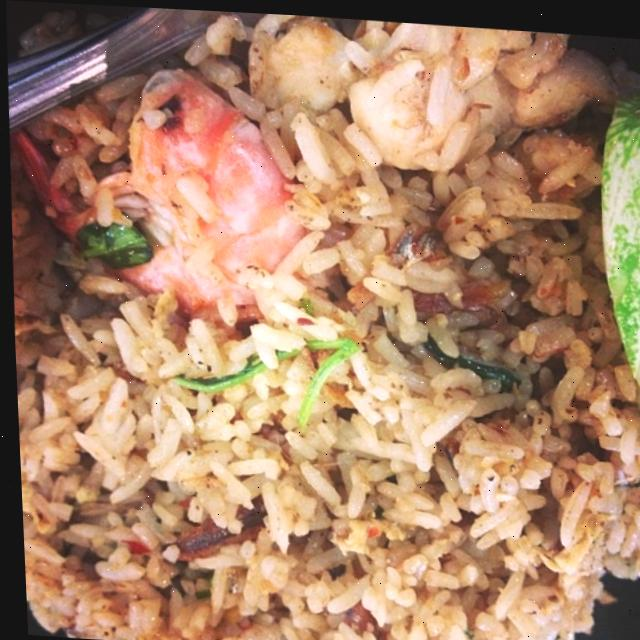米饭主食: (9, 35, 628, 640)
